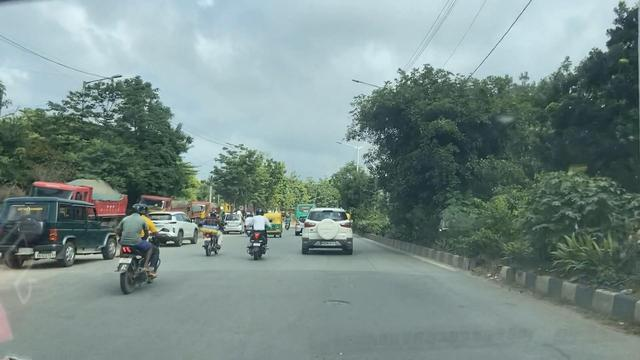HMV: (0, 190, 121, 275)
LMV: (108, 197, 165, 302), (236, 184, 273, 275), (301, 205, 356, 258), (196, 207, 224, 254)
RoadDamages: (312, 287, 361, 323)
